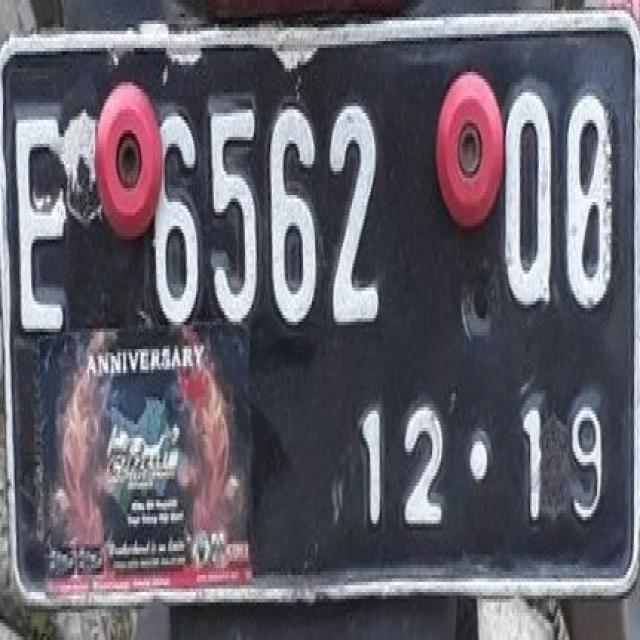plate: (0, 14, 639, 585)
